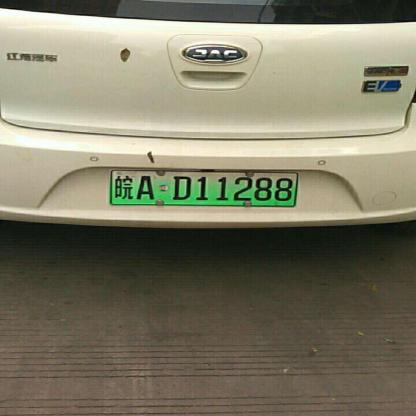lp: (109, 169, 298, 206)
